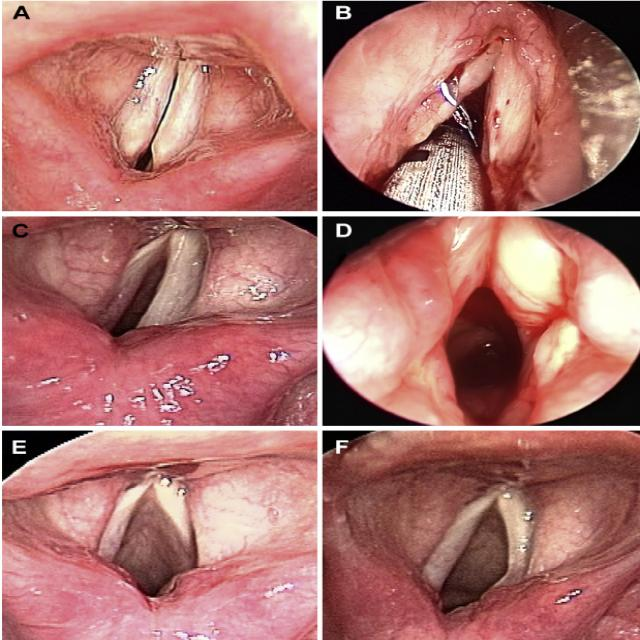arytenoid cartilagerotation: (4, 297, 317, 425), (2, 93, 312, 209), (324, 533, 629, 639), (3, 537, 314, 639)
epiglottisrotation: (2, 28, 315, 136), (2, 431, 315, 501), (323, 432, 636, 480)
larynxrotation: (362, 23, 547, 210), (412, 235, 557, 425), (416, 483, 538, 615), (103, 45, 214, 176), (89, 472, 202, 598), (96, 224, 210, 336)
